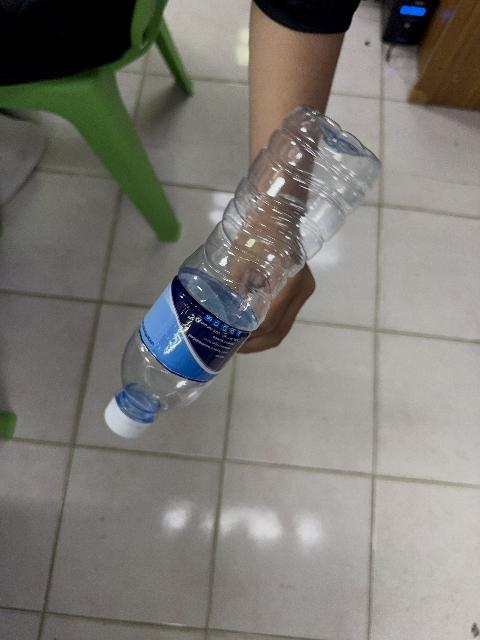bottle: (104, 107, 379, 437)
